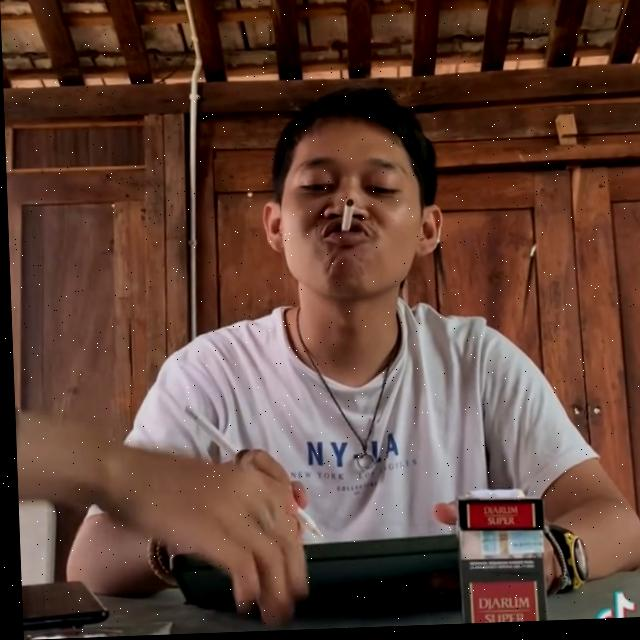cigarette: (338, 200, 354, 234)
